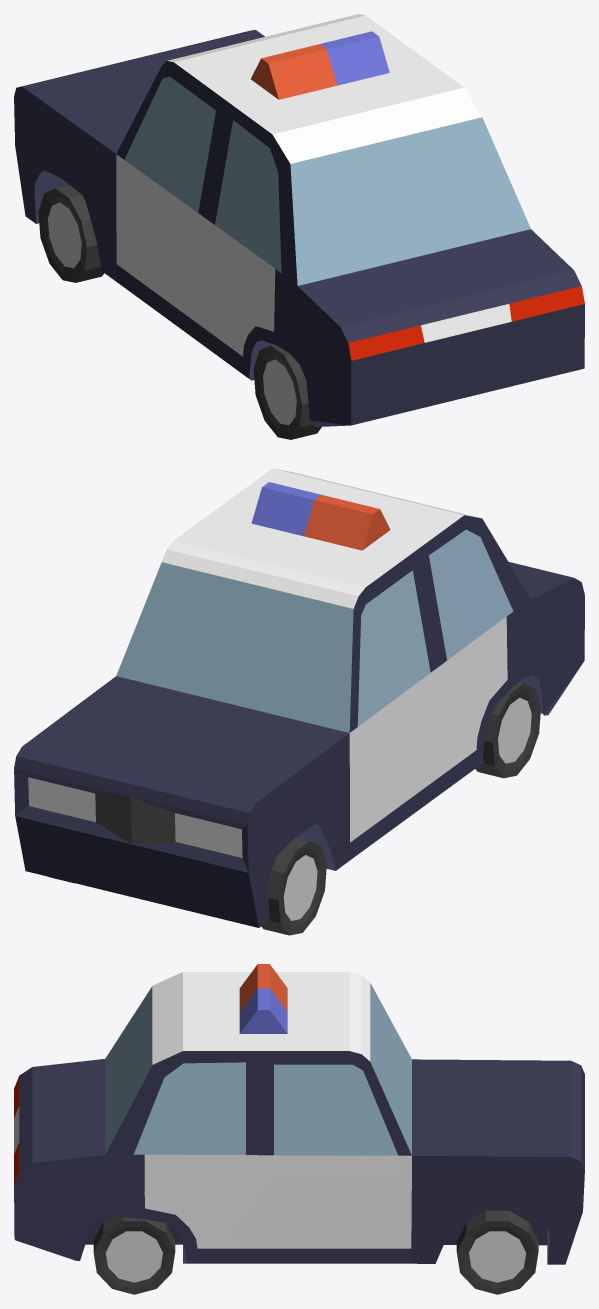
Rendered from car3.glb.
3 renders of one model, top to bottom at view 1: azimuth 30°, elevation 25°; view 2: azimuth 150°, elevation 25°; view 3: azimuth 270°, elevation 25°, orthographic. The views are drawn at different scales.
Parts seen in each view (by area): view 1: car_police.008_Cube.7823; view 2: car_police.008_Cube.7823; view 3: car_police.008_Cube.7823.
Part boxes in pixels (box(x1,y1,x2,y2)): car_police.008_Cube.7823: box(14, 14, 584, 439); car_police.008_Cube.7823: box(14, 468, 584, 935); car_police.008_Cube.7823: box(14, 964, 584, 1294).
Size of the model in its own units: 1.73 by 2.09 by 4.19.
